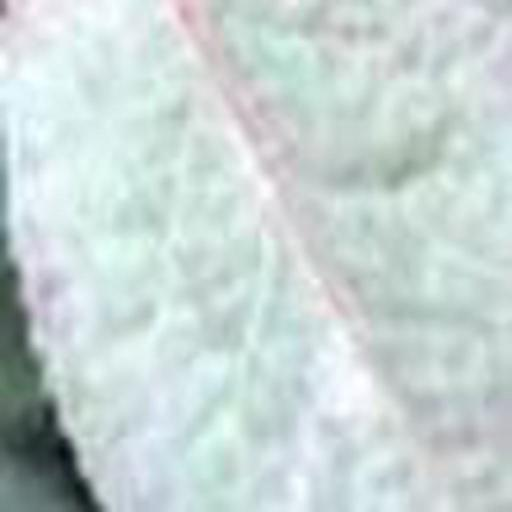powdery_mildew: (6, 0, 512, 512)
